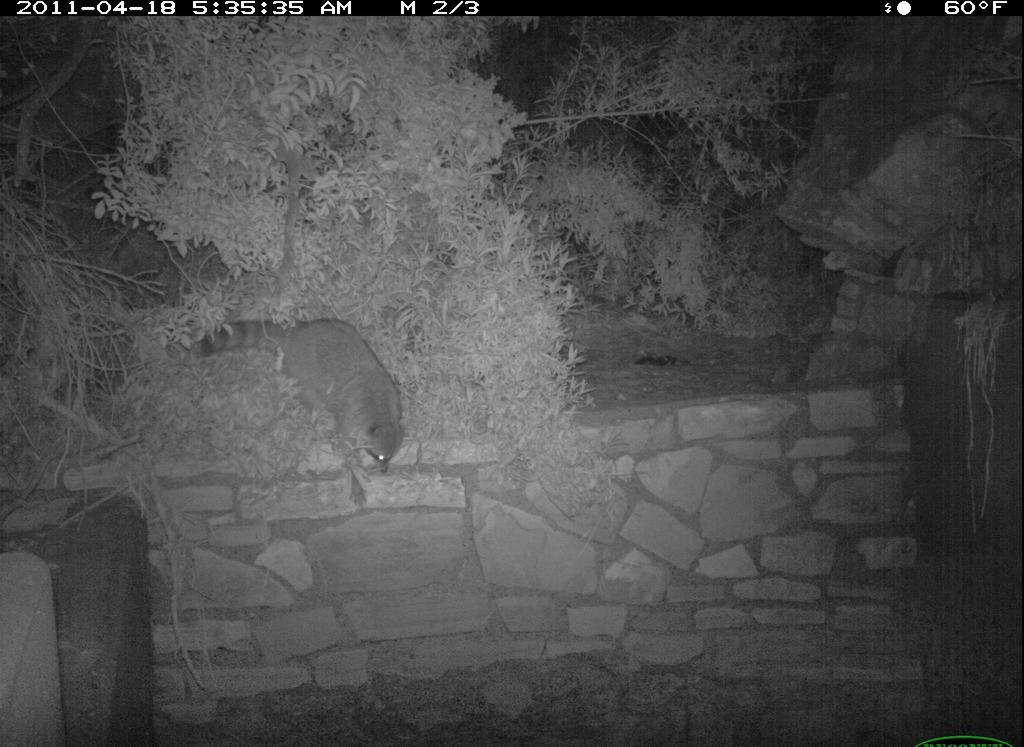raccoon: (194, 308, 406, 486)
